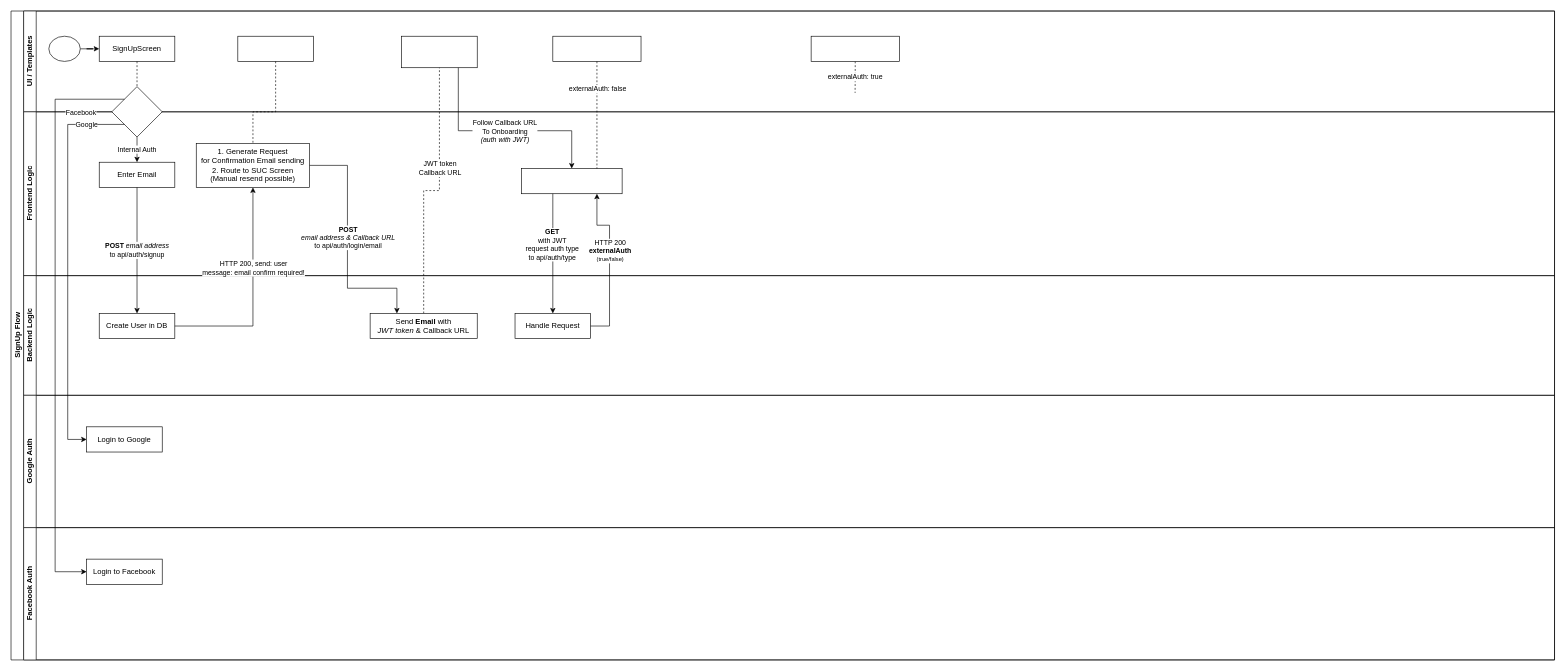
The diagram is 1566 pixels wide and 671 high, and some of its shapes have lost their labels. Here are the shapes that lost their labels. From the top down, the centre of each, then its label:
the point at 64,48: START
the point at 275,48: SignUpConfirmationScreen with Resend Email Link
the point at 439,52: SignUpConfirmationEmail with CallbackURL link containing JWT token
the point at 596,48: OnboardingInternalAuthScreen
the point at 854,48: OnboardingExtAuthScreen
the point at 136,111: SignUp Method?
the point at 571,181: Conditionally show proper Onboarding route
